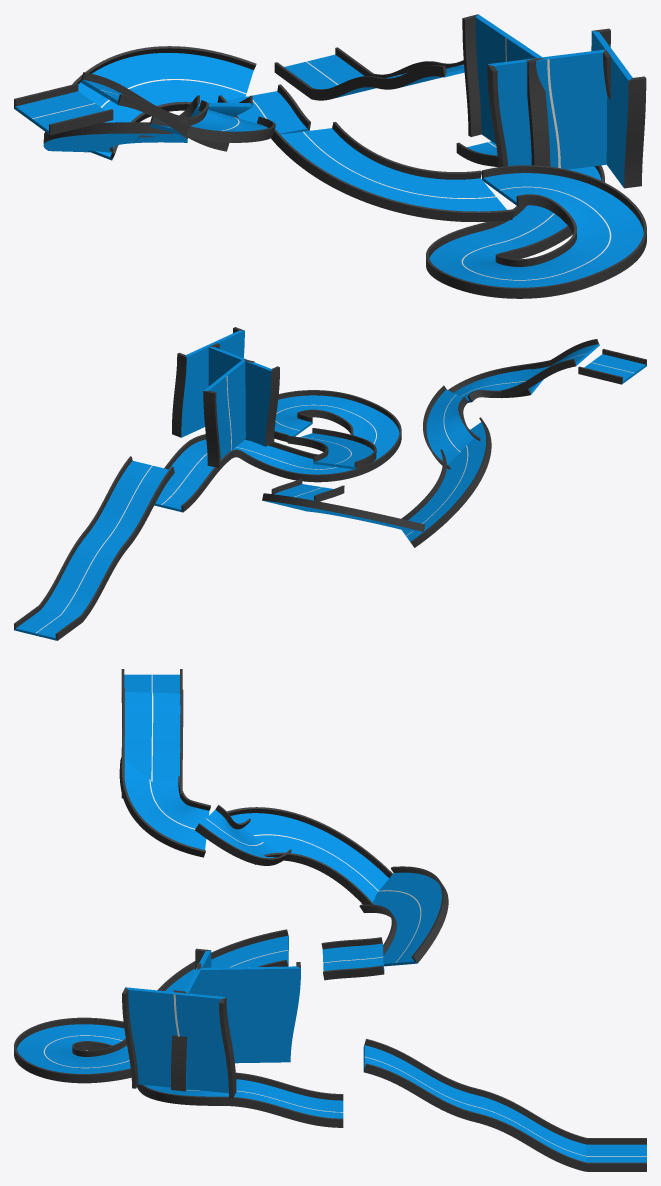
File: StylizedTrack_Anto.fbx
3 views of the same model, one above another, from view 1: azimuth 30°, elevation 25°; view 2: azimuth 150°, elevation 25°; view 3: azimuth 270°, elevation 25° (orthographic). The views are drawn at different scales.
Parts seen in each view (by area): view 1: ModularTrackSpiralLeft__1_, ModularTrackCantSmallLeft__9_.001, ModularTrackCurveLarge__3_.001, ModularTrackCurveLarge__2_.001, ModularTrackCantSmallLeft__13_.001, ModularTrackCantSmallLeft__12_.001, ModularTrackRampCurveLeft__2_.001, ModularTrackStraight__11_, ModularTrackCurveLarge__6_.001, ModularTrackRampCurveLeft__11_.001, ModularTrackStraight__1_.001, ModularTrackRamp__13_.001 (+6 smaller); view 2: ModularTrackSpiralLeft__1_, ModularTrackCurveLarge__6_.001, ModularTrackRamp__1_, ModularTrackRamp.001, ModularTrackCantSmallLeft__13_.001, ModularTrackCantSmallLeft__9_.001, ModularTrackCantSmallLeft__12_.001, ModularTrackRampCurveRight__10_.001, ModularTrackRamp__3_, ModularTrackCurveLarge__3_.001, ModularTrackRampCurveLeft__11_.001, ModularTrackRampCurveLeft__2_.001 (+5 smaller); view 3: ModularTrackCantSmallLeft__12_.001, ModularTrackCantSmallLeft__13_.001, ModularTrackCurveLarge__6_.001, ModularTrackSpiralLeft__1_, ModularTrackCurveLarge__2_.001, ModularTrackRamp__13_.001, ModularTrackRampCurveLeft__11_.001, ModularTrackRamp__1_, ModularTrackRamp.001, ModularTrackRamp__3_, ModularTrackCurveLarge__3_.001, ModularTrackRampCurveRight__10_.001 (+5 smaller).
Boxes of the visible parts, <box> form: ModularTrackSpiralLeft__1_: <box>426,165,646,298</box>; ModularTrackCantSmallLeft__9_.001: <box>487,49,611,169</box>; ModularTrackCurveLarge__3_.001: <box>271,122,514,222</box>; ModularTrackCurveLarge__2_.001: <box>72,46,256,160</box>; ModularTrackCantSmallLeft__13_.001: <box>462,14,550,166</box>; ModularTrackCantSmallLeft__12_.001: <box>591,28,646,188</box>; ModularTrackRampCurveLeft__2_.001: <box>482,165,604,259</box>; ModularTrackStraight__11_: <box>14,83,113,135</box>; ModularTrackCurveLarge__6_.001: <box>43,122,187,152</box>; ModularTrackRampCurveLeft__11_.001: <box>149,100,275,142</box>; ModularTrackStraight__1_.001: <box>274,47,373,98</box>; ModularTrackRamp__13_.001: <box>80,72,229,151</box>; ModularTrackSpiralLeft__1_: <box>274,390,401,482</box>; ModularTrackCurveLarge__6_.001: <box>401,417,491,547</box>; ModularTrackRamp__1_: <box>84,456,174,547</box>; ModularTrackRamp.001: <box>39,531,128,621</box>; ModularTrackCantSmallLeft__13_.001: <box>203,359,254,467</box>; ModularTrackCantSmallLeft__9_.001: <box>208,343,279,446</box>; ModularTrackCantSmallLeft__12_.001: <box>172,327,244,437</box>; ModularTrackRampCurveRight__10_.001: <box>423,385,480,469</box>; ModularTrackRamp__3_: <box>154,440,232,512</box>; ModularTrackCurveLarge__3_.001: <box>287,428,376,469</box>; ModularTrackRampCurveLeft__11_.001: <box>448,360,550,402</box>; ModularTrackRampCurveLeft__2_.001: <box>189,434,312,478</box>; ModularTrackCantSmallLeft__12_.001: <box>122,987,236,1098</box>; ModularTrackCantSmallLeft__13_.001: <box>197,962,300,1063</box>; ModularTrackCurveLarge__6_.001: <box>227,807,392,904</box>; ModularTrackSpiralLeft__1_: <box>14,1017,131,1083</box>; ModularTrackCurveLarge__2_.001: <box>359,866,448,966</box>; ModularTrackRamp__13_.001: <box>121,687,183,798</box>; ModularTrackRampCurveLeft__11_.001: <box>119,755,210,857</box>; ModularTrackRamp__1_: <box>363,1039,477,1121</box>; ModularTrackRamp.001: <box>475,1088,587,1171</box>; ModularTrackRamp__3_: <box>222,1072,343,1127</box>; ModularTrackCurveLarge__3_.001: <box>157,929,288,991</box>; ModularTrackRampCurveRight__10_.001: <box>195,805,291,865</box>.
Size of the model in its own units: 98.59 by 48.76 by 104.
